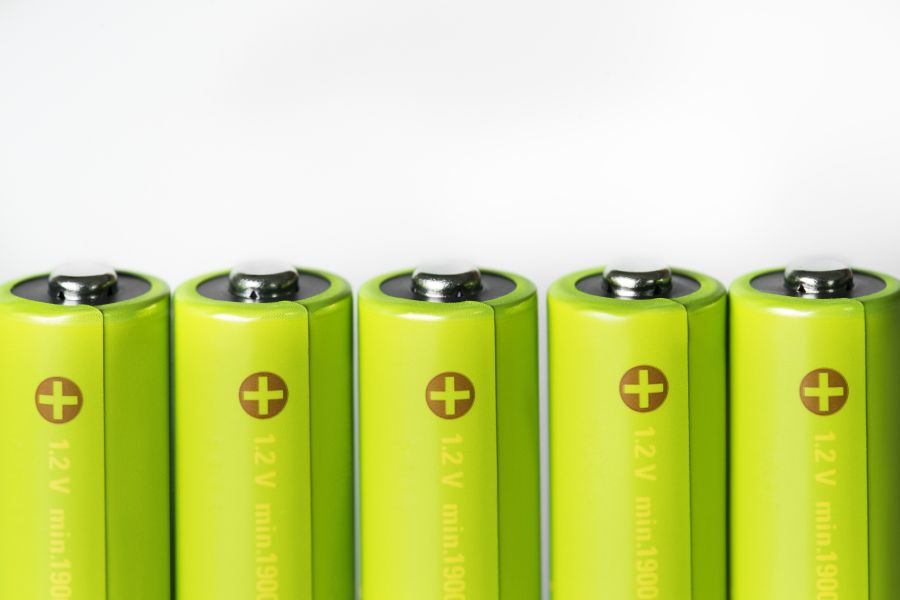Battery: (544, 256, 730, 600), (171, 259, 355, 600), (356, 261, 541, 600), (729, 257, 900, 600), (1, 256, 171, 600)
